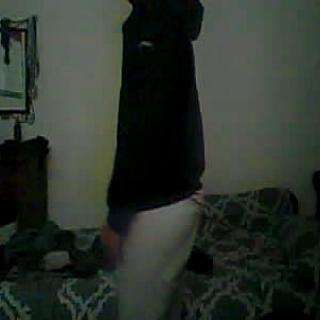White Sweatpants: (121, 205, 197, 320)
